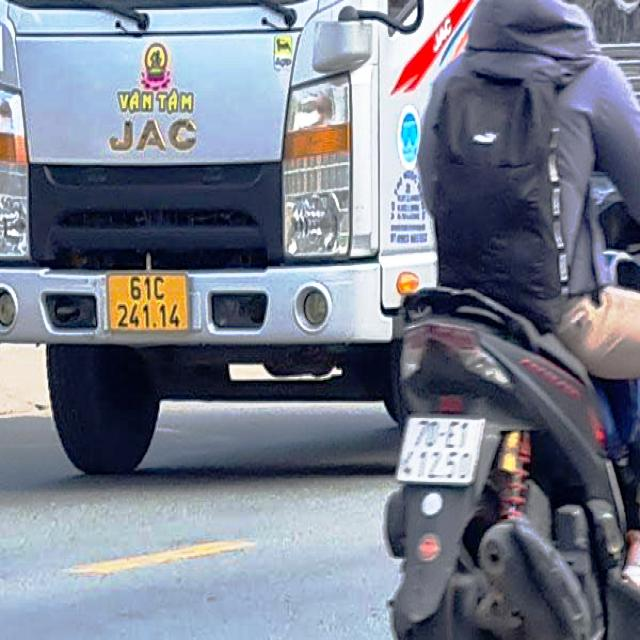license_plate: (396, 418, 485, 483), (109, 273, 187, 333)
